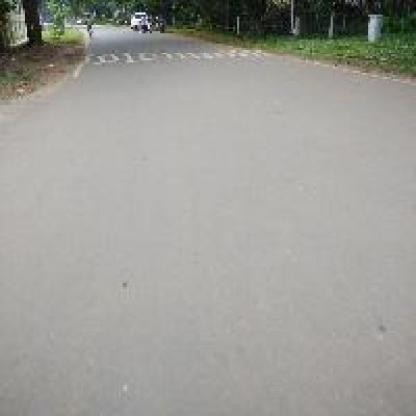Speed Bump: (79, 44, 270, 64)
